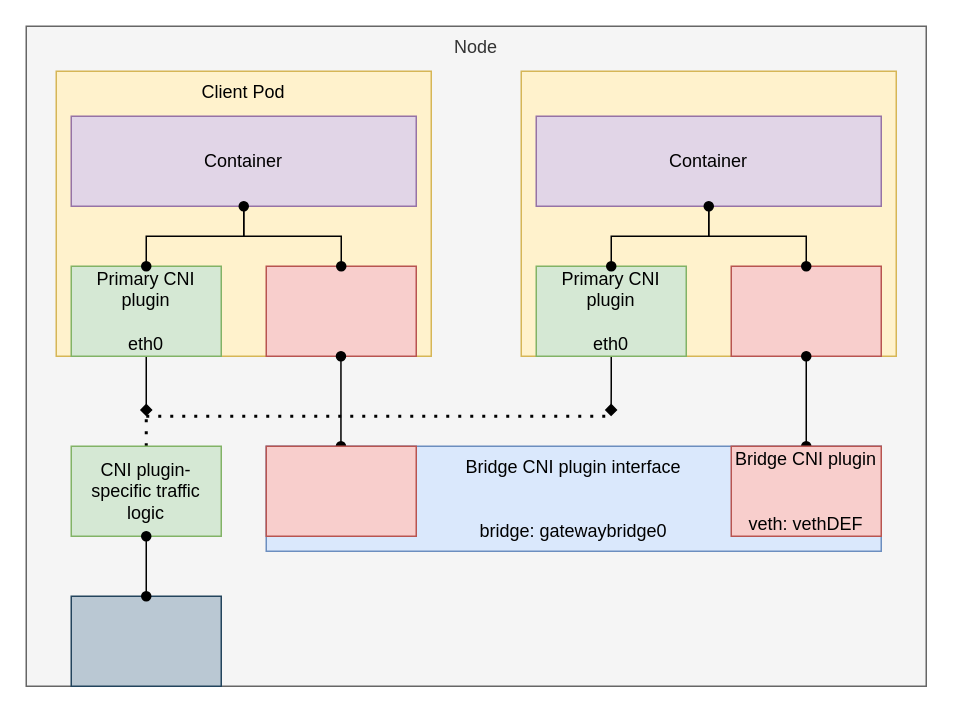
The diagram is 953 pixels wide and 713 high, and some of its shapes have lost their labels. Here are the shapes that lost their labels. From the top down, the box of each, then its label:
(520, 70, 896, 356): Router Pod
(265, 265, 416, 356): Bridge CNI plugin 192.168.50.2/24 veth: net1
(730, 265, 881, 356): Bridge CNI plugin 192.168.50.1/24 veth: net1
(265, 445, 416, 536): Bridge CNI plugin veth: vethABC
(70, 595, 221, 686): Physical interface eth: eth0
